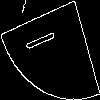I: (25, 24, 63, 54)
